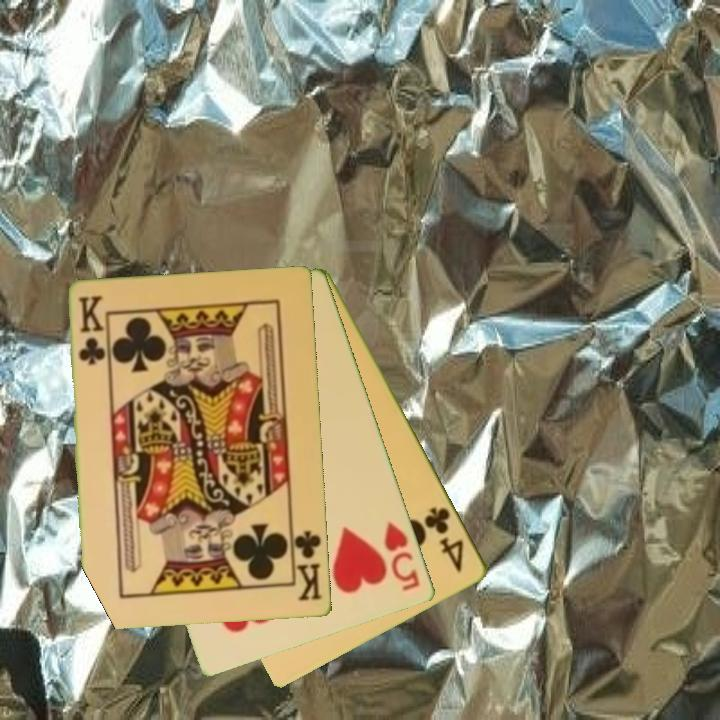4c: (422, 503, 468, 576)
5h: (381, 518, 424, 595)
Kc: (289, 524, 325, 604), (75, 293, 107, 368)
